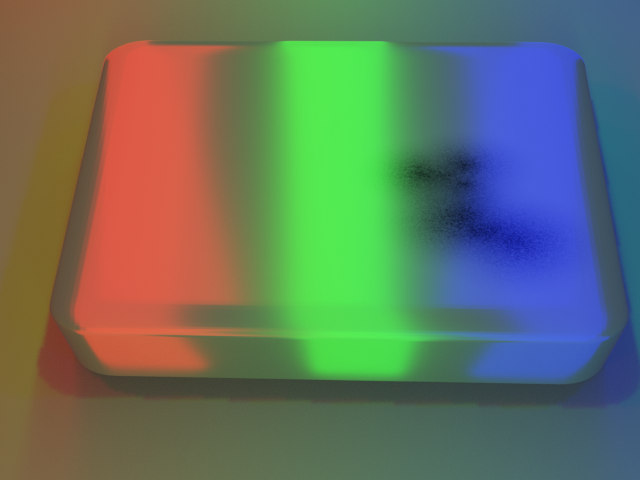stain: (380, 150, 617, 304), (356, 109, 564, 225)
